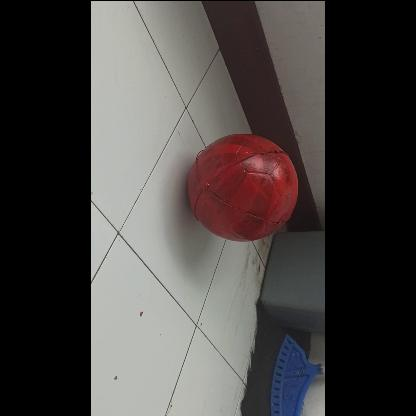red_ball: (190, 130, 298, 240)
